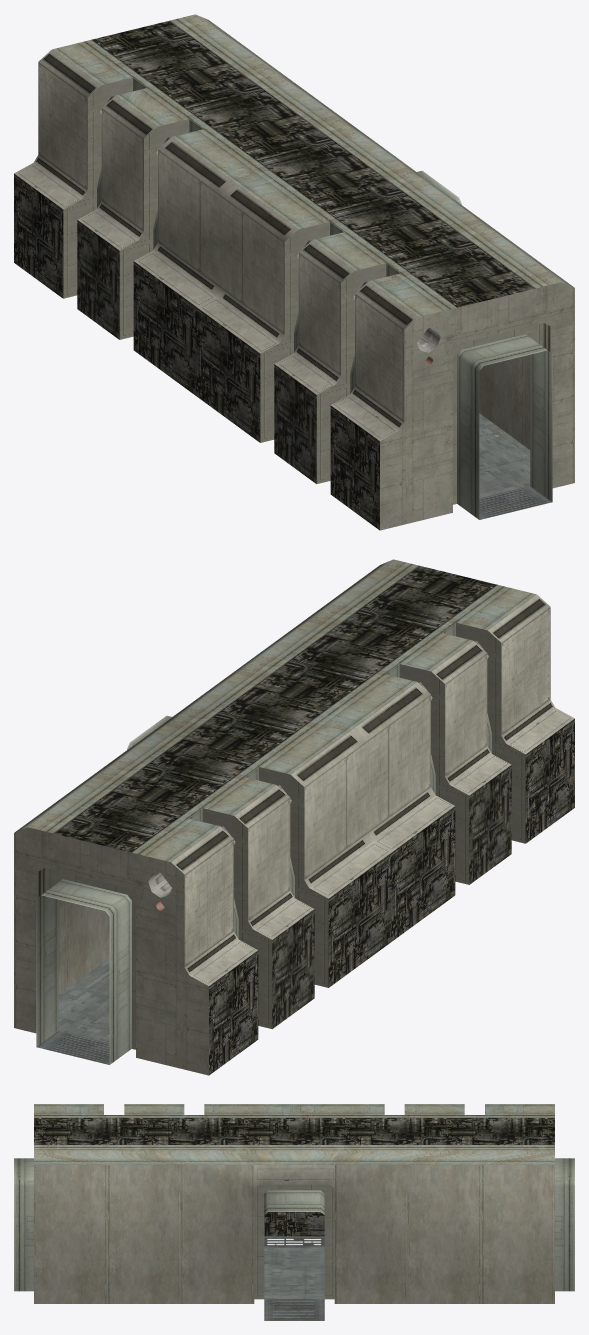
The model's file is thm_tato_lucky_despot_r14_hall03_mesh_r14.fbx.
3 renders of one model, top to bottom at view 1: azimuth 30°, elevation 25°; view 2: azimuth 150°, elevation 25°; view 3: azimuth 270°, elevation 25°, orthographic. The views are drawn at different scales.
Visible parts, largest first — view 1: mesh_node; view 2: mesh_node; view 3: mesh_node.
Part boxes in pixels (<box>): mesh_node: <box>14,14,574,530</box>; mesh_node: <box>14,559,574,1075</box>; mesh_node: <box>14,1104,574,1320</box>.
Bounding box in the file's own units: 5 × 4 × 14.
